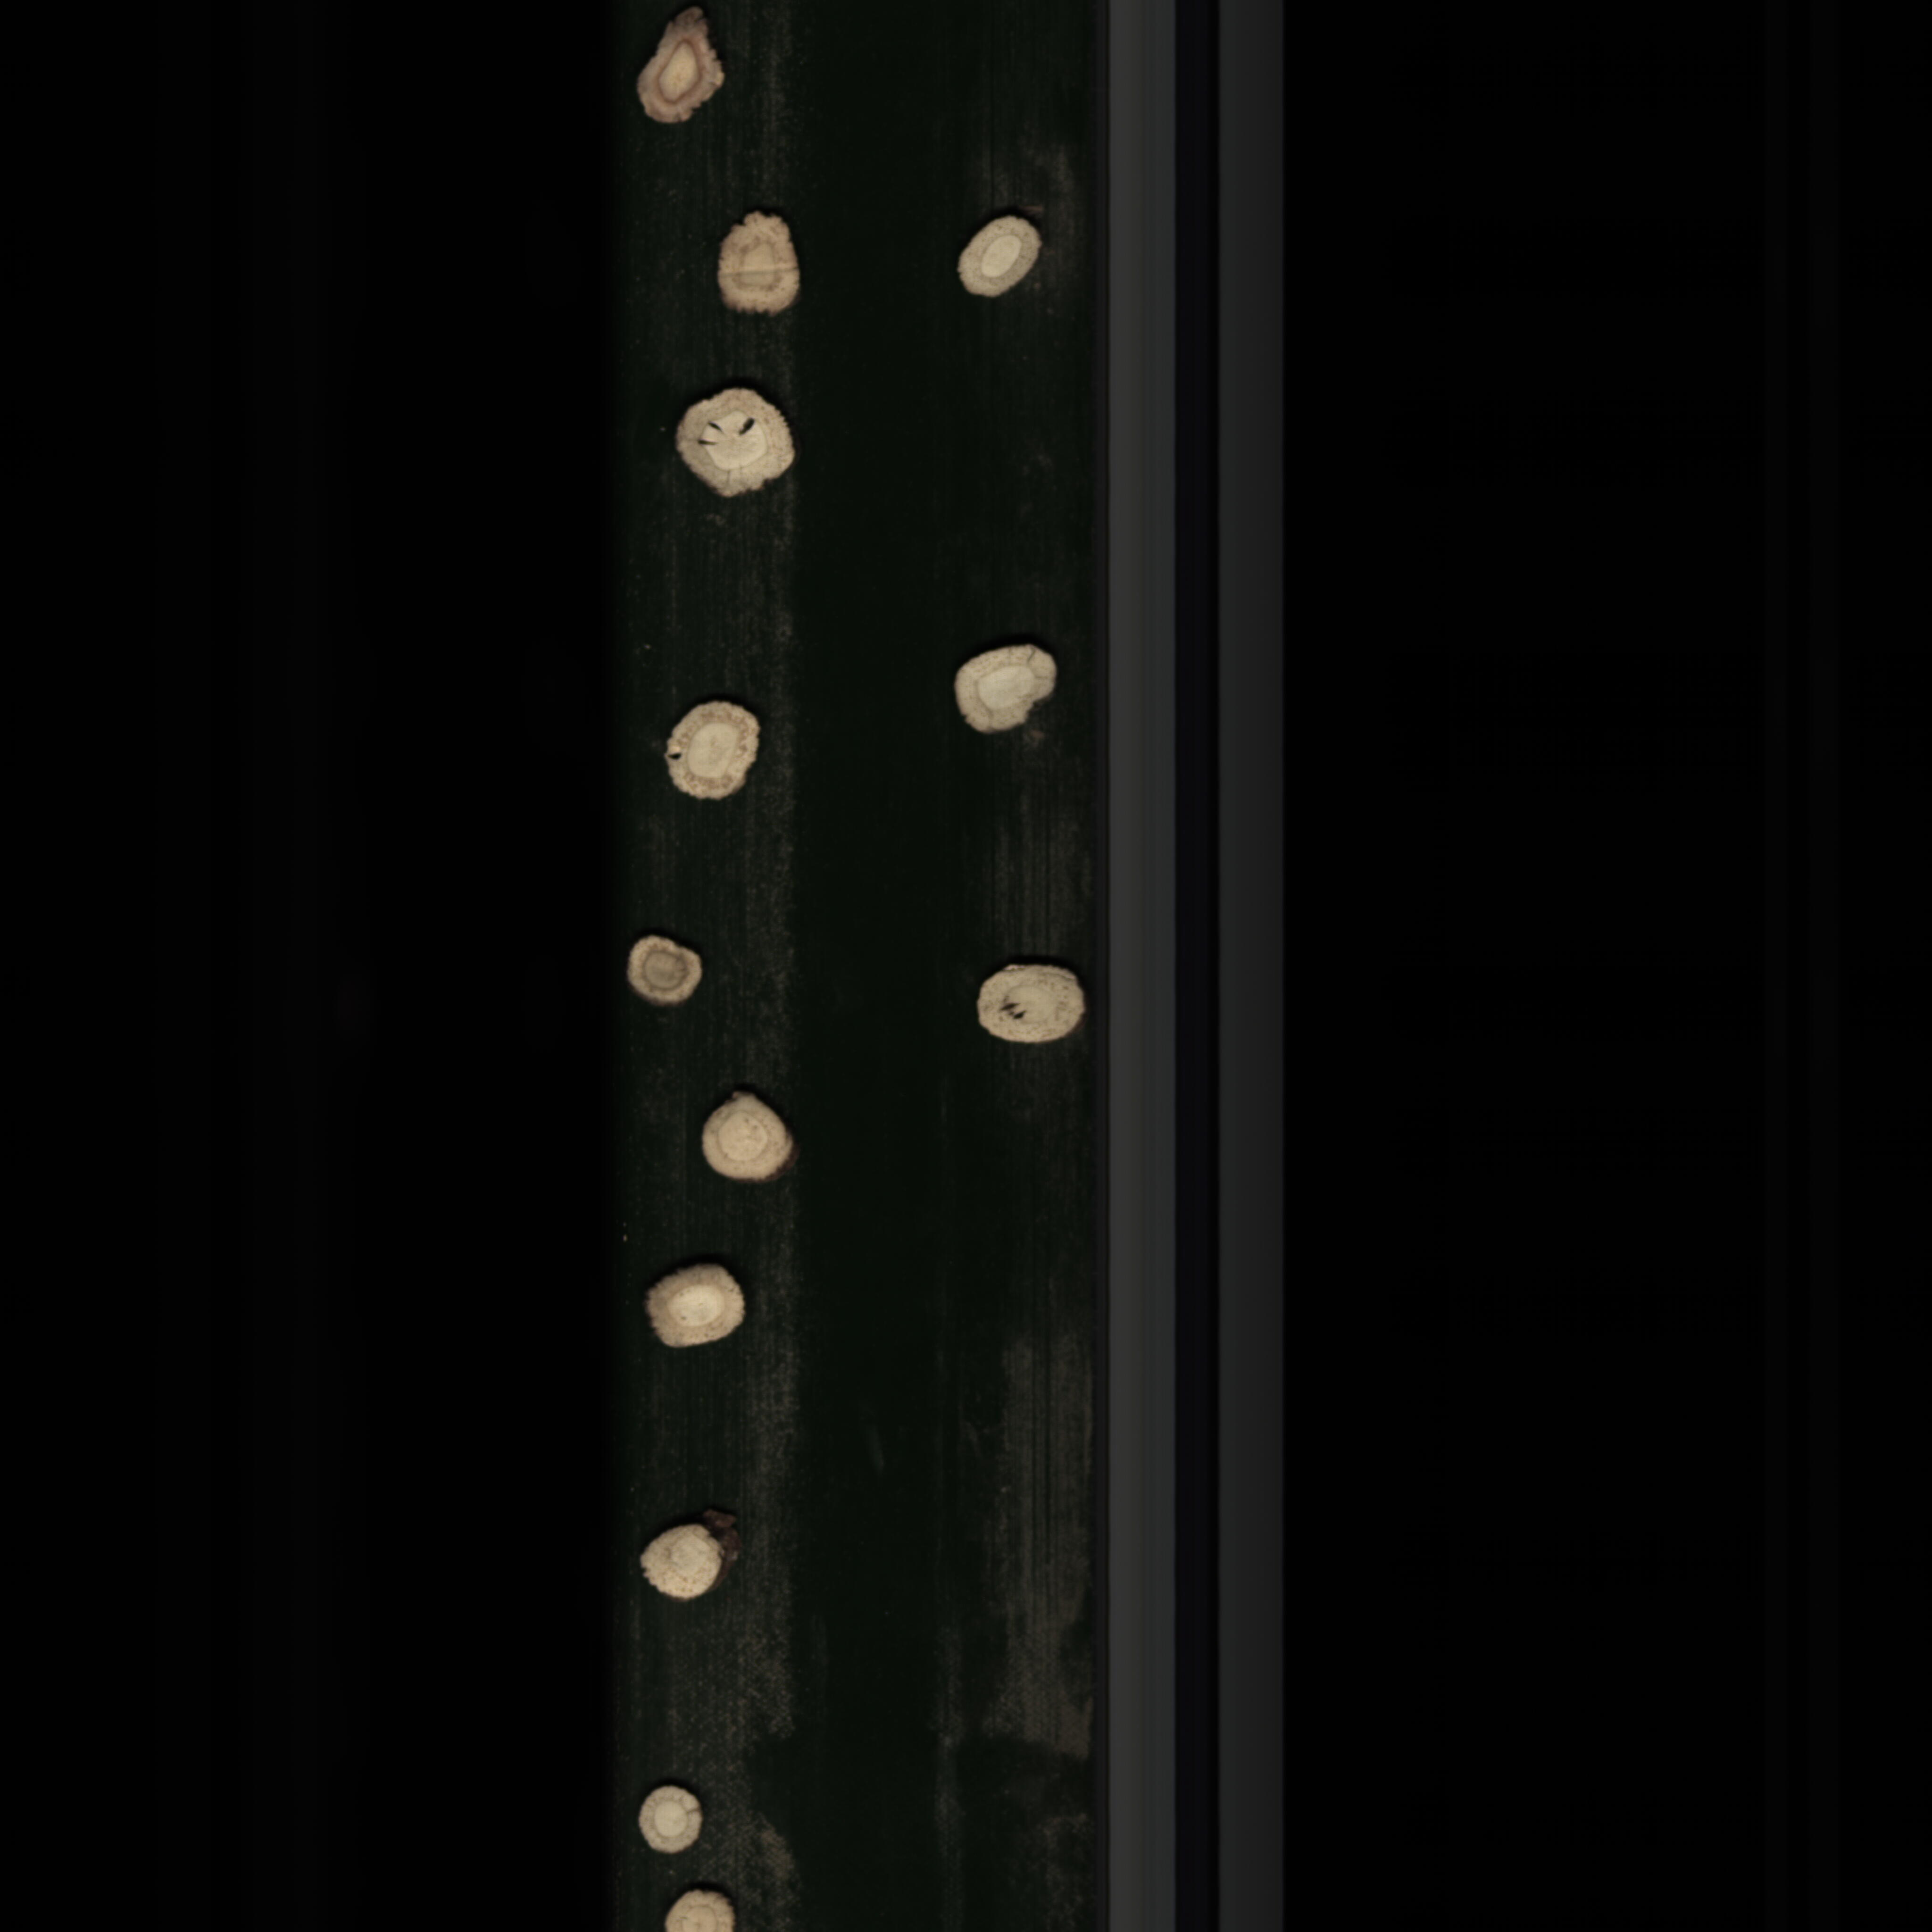debris: (651, 1888, 750, 1930)
hole: (663, 377, 801, 513), (660, 694, 761, 810), (966, 962, 1088, 1049)
moldy: (626, 11, 740, 134), (617, 925, 711, 1012)
